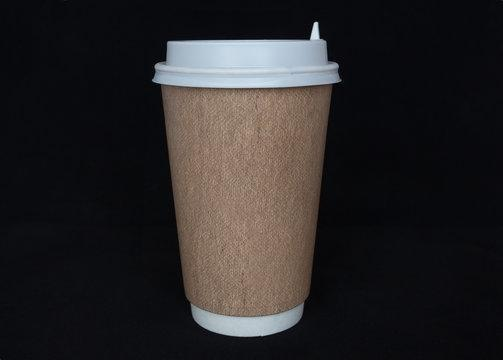cup-disposable: (150, 34, 344, 341)
